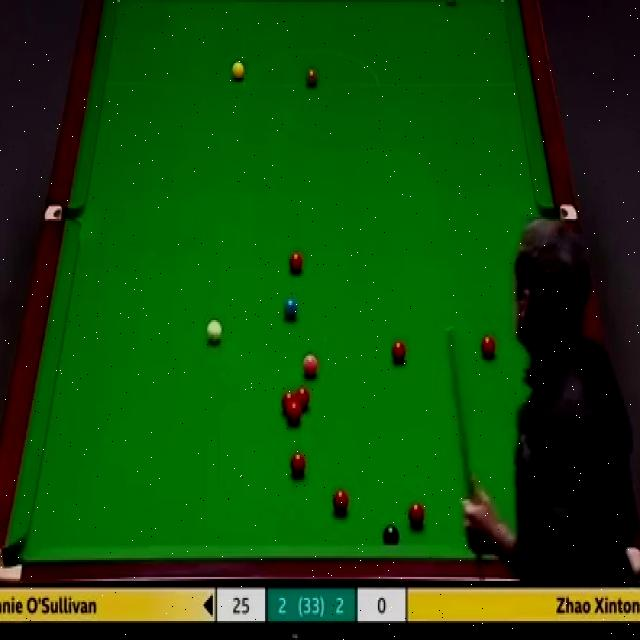black-ball: (383, 523, 400, 546)
blue-ball: (282, 297, 300, 319)
brown-ball: (305, 65, 318, 86)
green-ball: (443, 0, 458, 4)
pink-ball: (302, 355, 318, 377)
red-ball: (407, 503, 426, 531), (290, 448, 308, 477), (333, 487, 350, 517), (390, 337, 408, 365), (281, 392, 296, 418), (480, 334, 495, 360), (296, 387, 310, 412), (287, 405, 303, 425), (290, 251, 304, 273)
white-ball: (204, 318, 224, 347)
yellow-ball: (231, 64, 244, 80)
